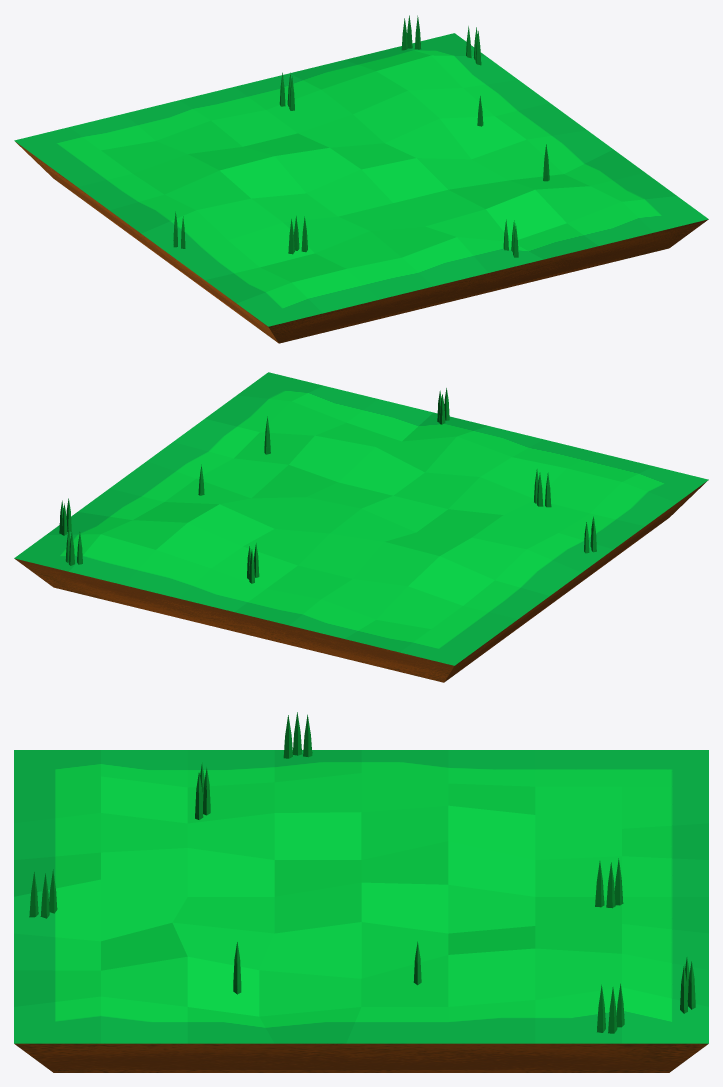
The model's file is grassvariation3.fbx.
3 renders of one model, top to bottom at view 1: azimuth 30°, elevation 25°; view 2: azimuth 150°, elevation 25°; view 3: azimuth 270°, elevation 25°, orthographic. The views are drawn at different scales.
Visible parts, largest first — view 1: pCube1; view 2: pCube1; view 3: pCube1.
Boxes of the visible parts, box(x1,y1,x2,y2) form: pCube1: box(14, 33, 708, 343); pCube1: box(14, 372, 708, 682); pCube1: box(14, 750, 708, 1072).
Bounding box in the file's own units: 97.93 × 14.79 × 97.93.
3 materials, 2 textured.
